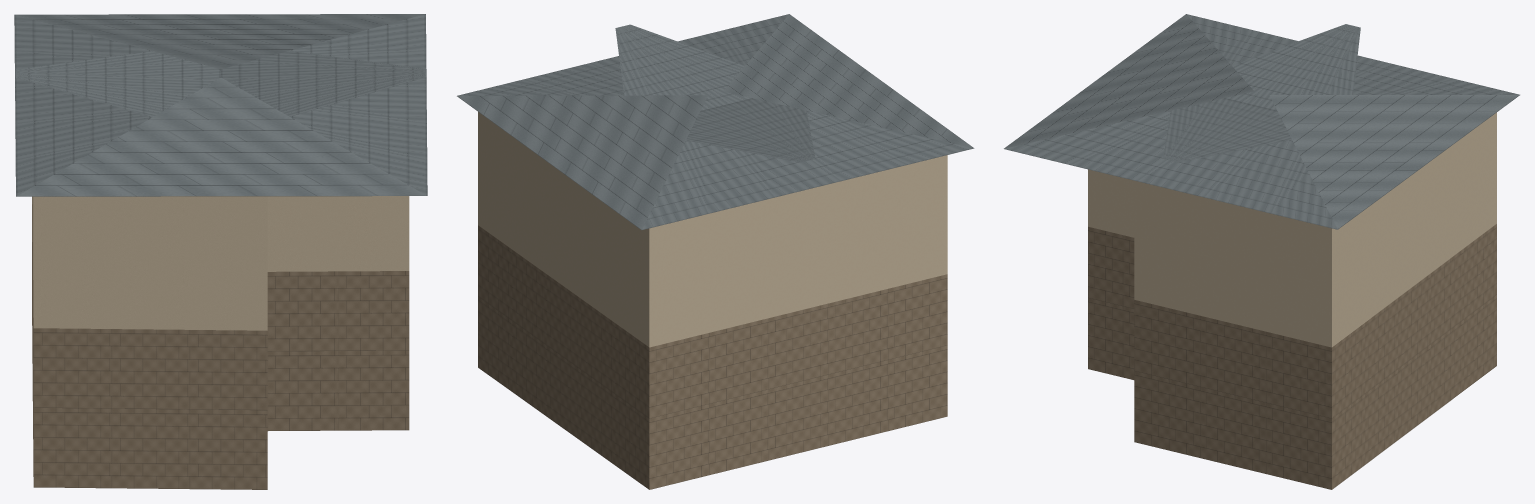
Rendered from bld_c42_45_197.gltf.
3 renders of one model, left to right at view 1: azimuth 30°, elevation 25°; view 2: azimuth 150°, elevation 25°; view 3: azimuth 270°, elevation 25°, orthographic. The views are drawn at different scales.
Visible parts, largest first — view 1: bld_c42_45_197; view 2: bld_c42_45_197; view 3: bld_c42_45_197.
Part boxes in pixels (left/top/right/bottom): bld_c42_45_197: left=14, top=14, right=427, bottom=489; bld_c42_45_197: left=457, top=14, right=974, bottom=489; bld_c42_45_197: left=1004, top=14, right=1519, bottom=489.
Size of the model in its own units: 16.16 by 10.4 by 16.36.
3 materials, 3 textured.
